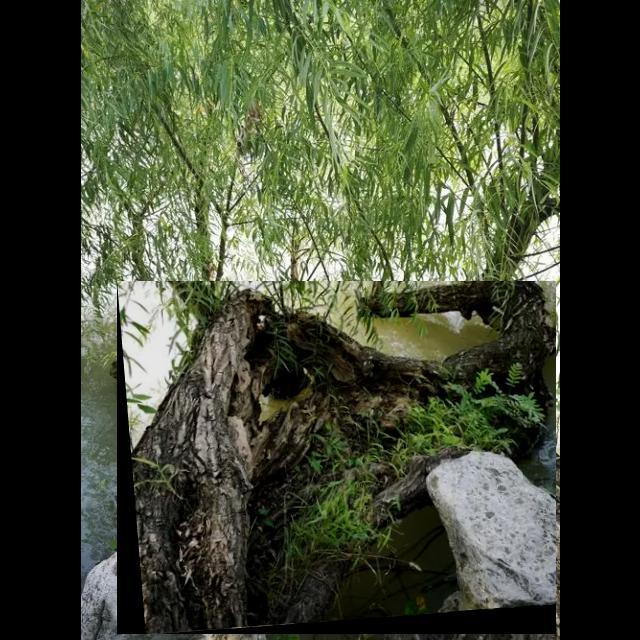fallen_tree: (117, 281, 557, 635)
